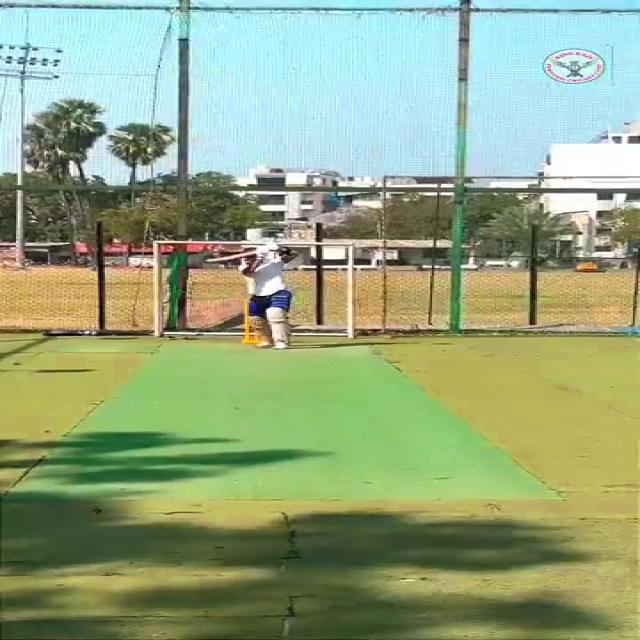batsman: (204, 241, 306, 352)
